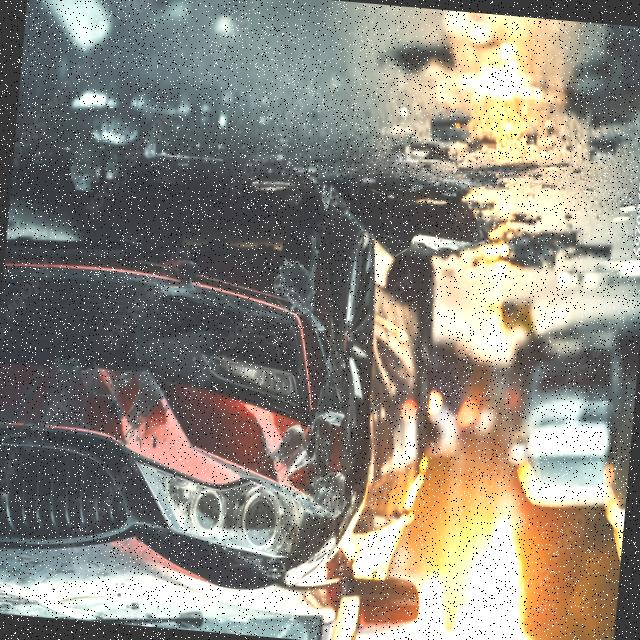Dent: (82, 326, 298, 482)
Head Light: (110, 424, 314, 576)
